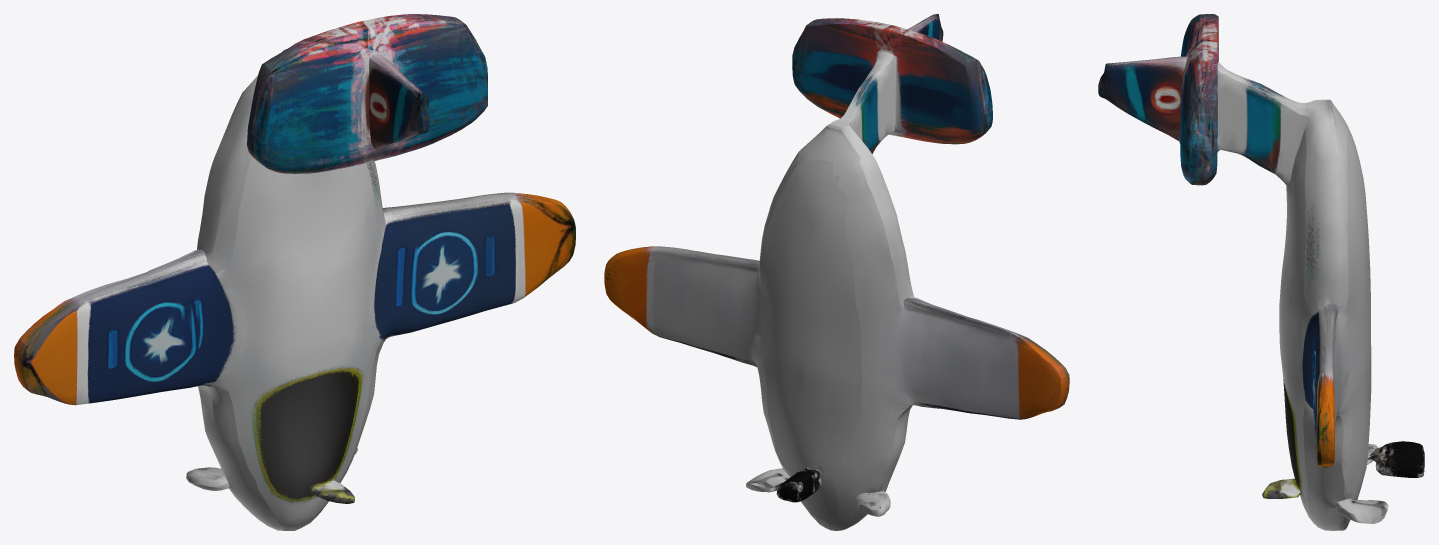
Rendered from out_sim.glb.
3 views of the same model, side by side, from view 1: azimuth 30°, elevation 25°; view 2: azimuth 150°, elevation 25°; view 3: azimuth 270°, elevation 25° (orthographic). The views are drawn at different scales.
Visible parts, largest first — view 1: world; view 2: world; view 3: world.
Boxes of the visible parts, bbox=[...] form: world: bbox=[14, 14, 575, 530]; world: bbox=[604, 14, 1069, 530]; world: bbox=[1098, 14, 1424, 530].
Bounding box in the file's own units: 0.9973 × 0.9472 × 0.572.
1 material, 1 textured.
